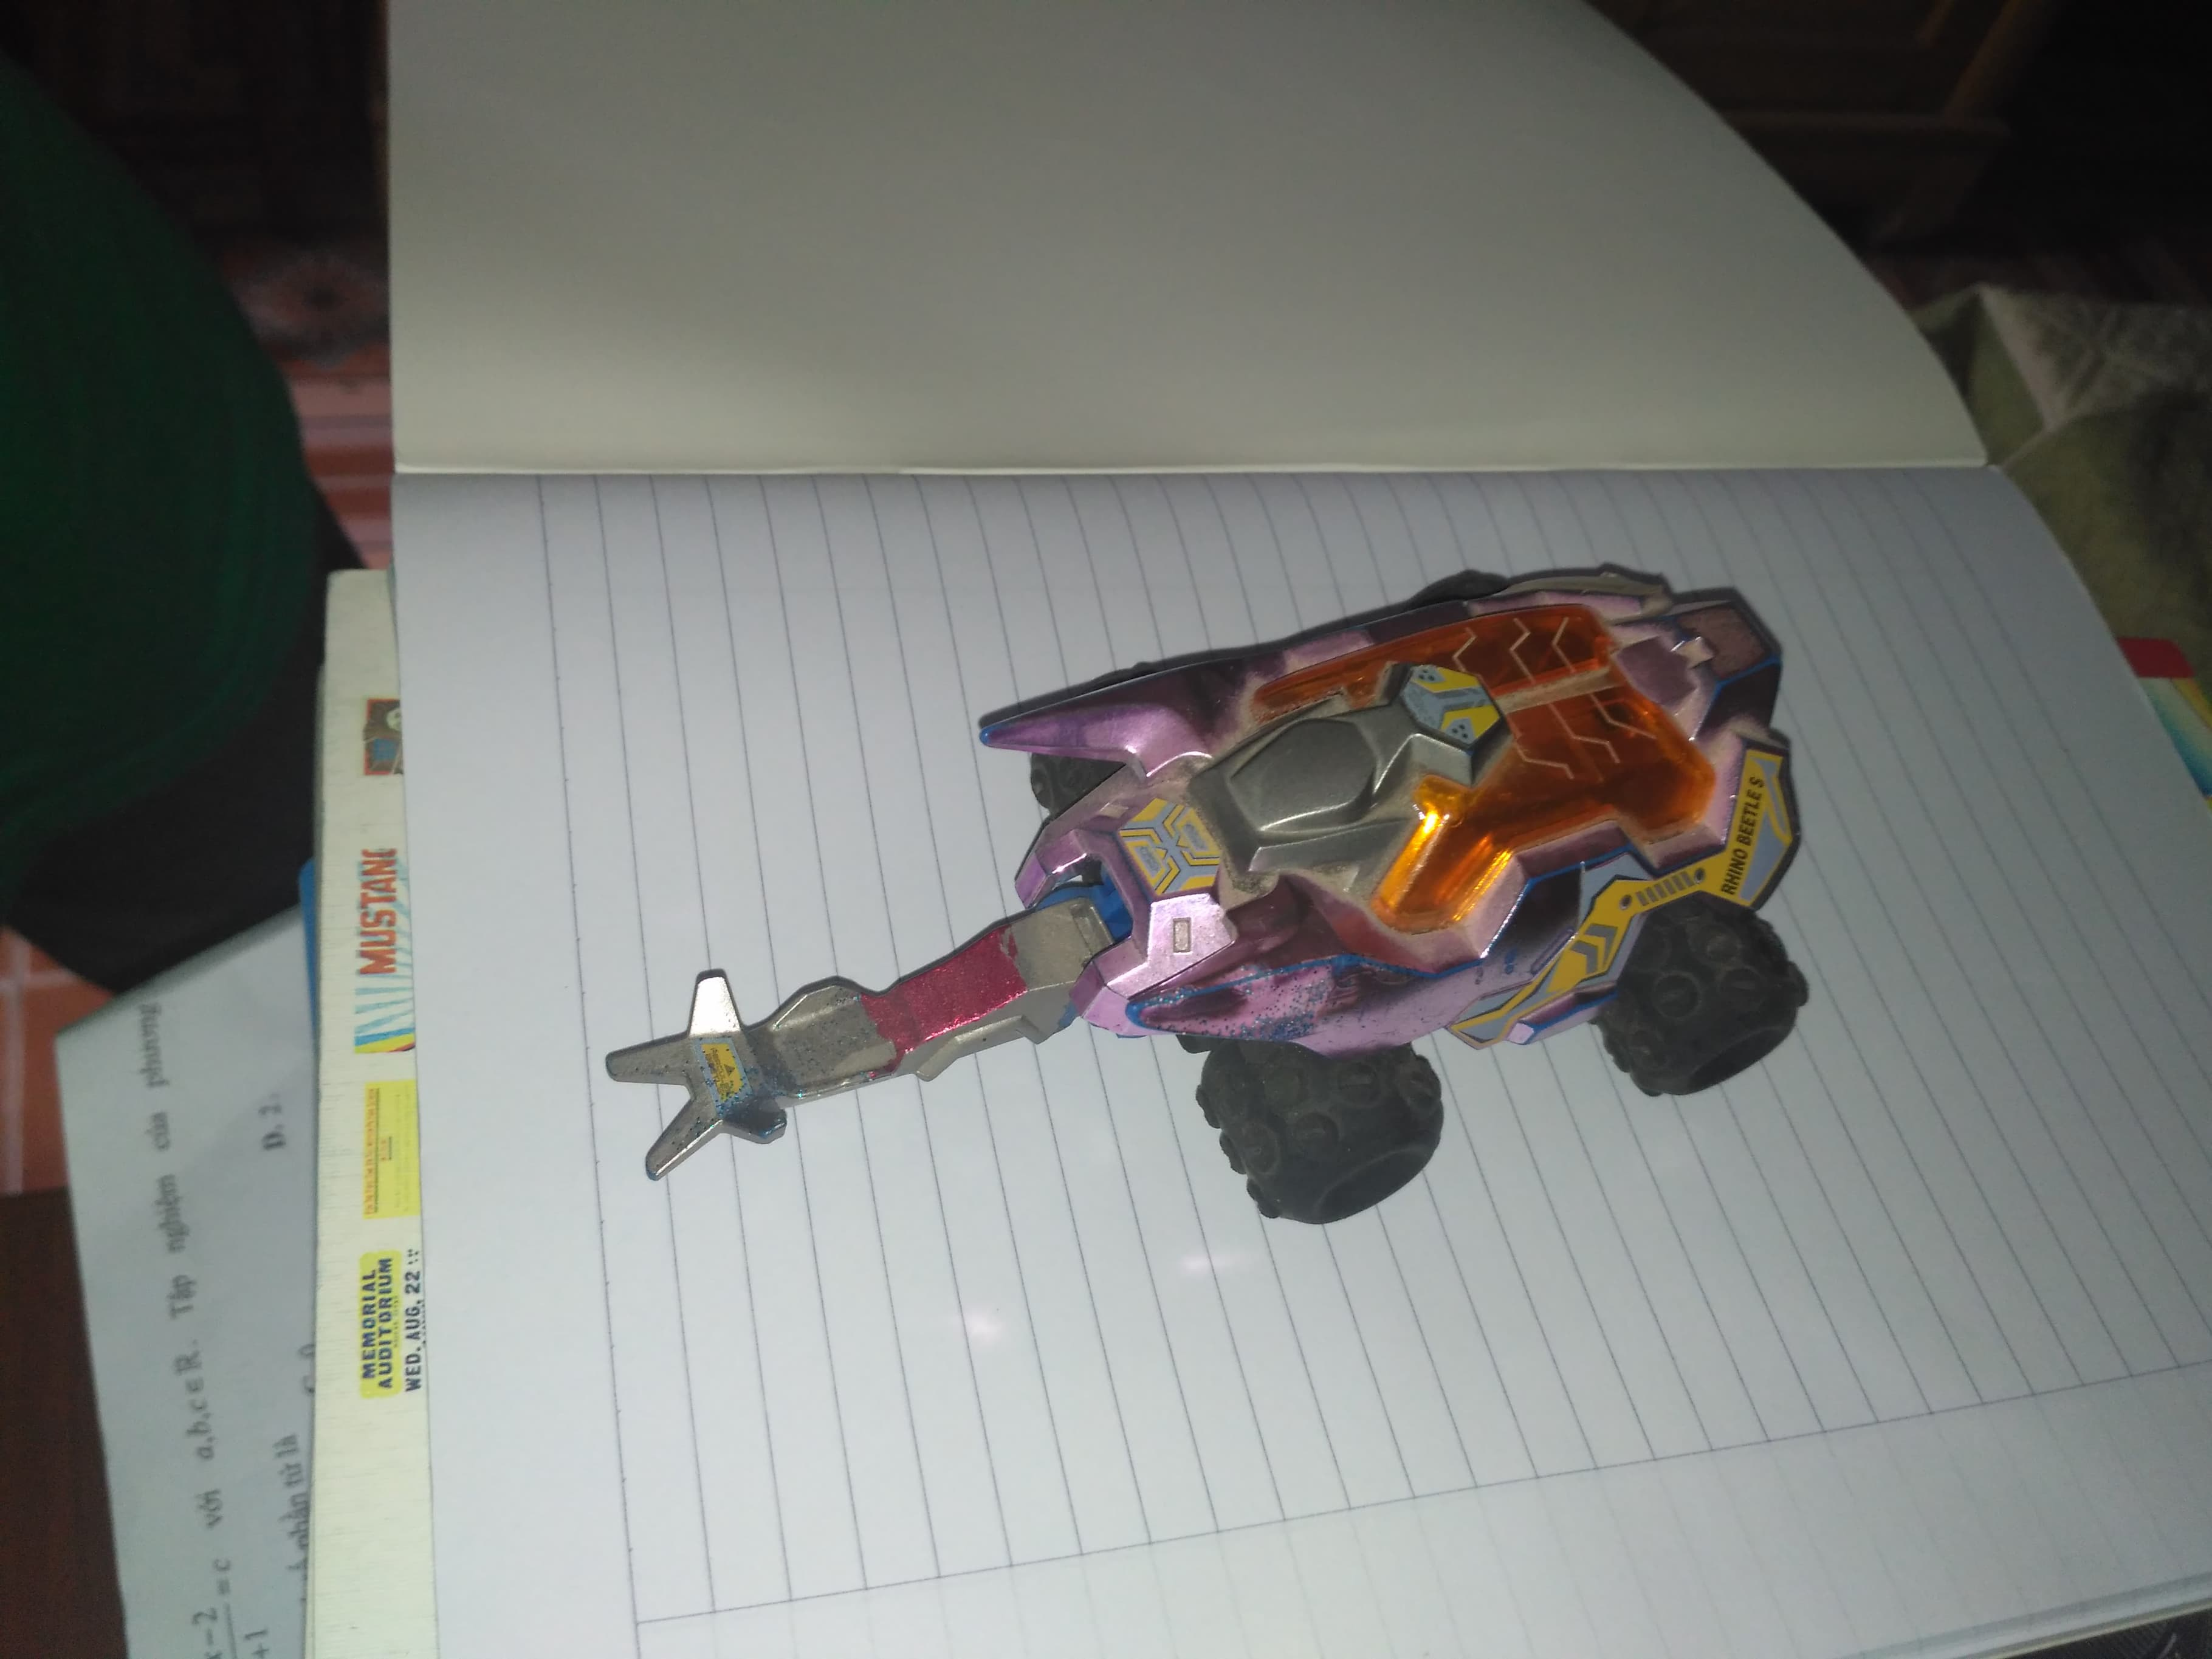rhino: (597, 565, 1817, 1236)
